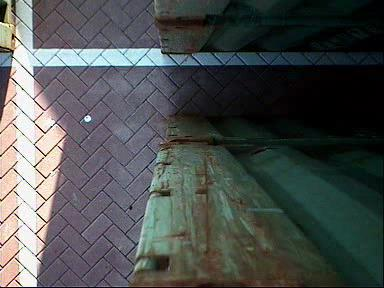groundmarker_2: (191, 34, 244, 103)
